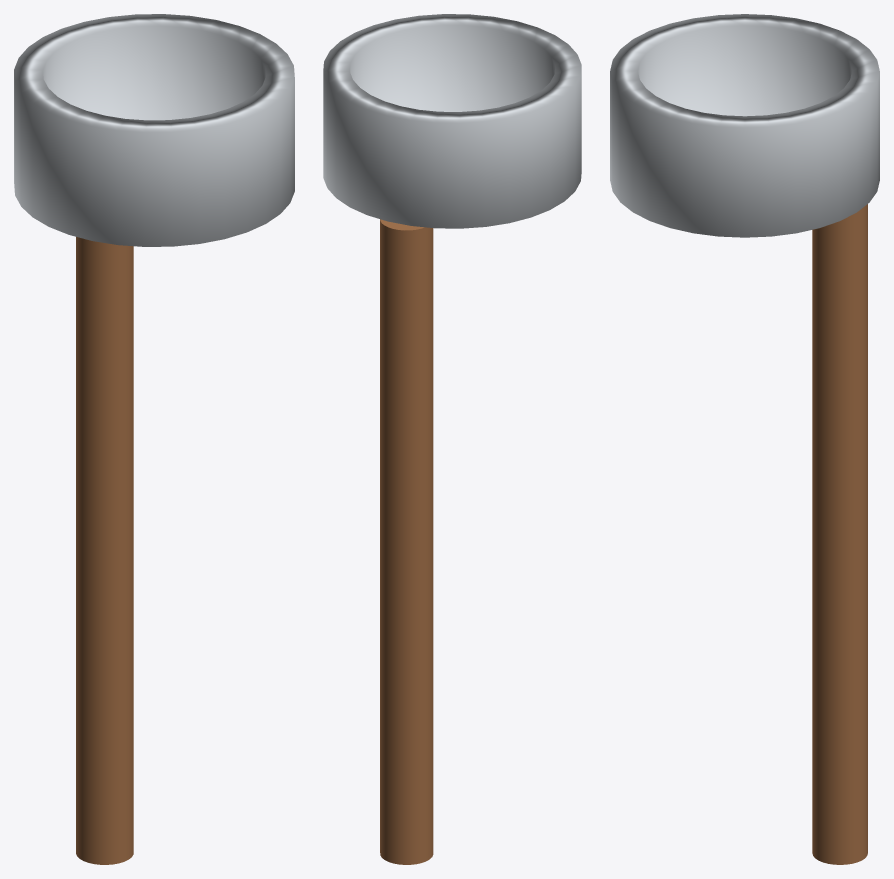
The model's file is wp-louche.glb.
The picture shows the model from 3 angles, left to right: view 1: azimuth 30°, elevation 25°; view 2: azimuth 150°, elevation 25°; view 3: azimuth 270°, elevation 25°; orthographic projection. The views are drawn at different scales.
Visible parts, largest first — view 1: wp-louche; view 2: wp-louche; view 3: wp-louche.
Part boxes in pixels (x1=…): wp-louche: x1=14, y1=14, x2=294, y2=864; wp-louche: x1=323, y1=14, x2=581, y2=864; wp-louche: x1=610, y1=14, x2=879, y2=864.
Bounding box in the file's own units: 0.1 × 0.32 × 0.1.
